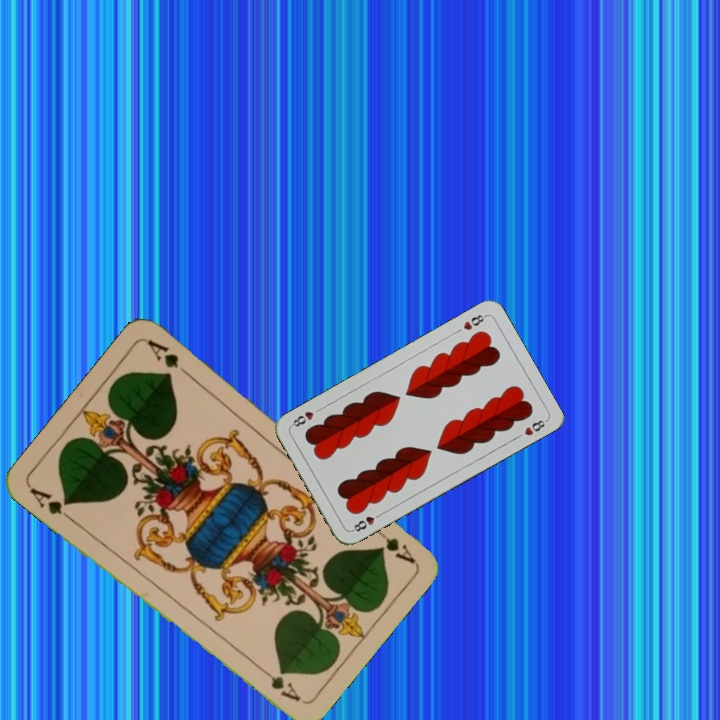GA: (368, 522, 417, 566), (25, 483, 76, 525)
H8: (348, 509, 385, 534), (459, 310, 489, 333)
